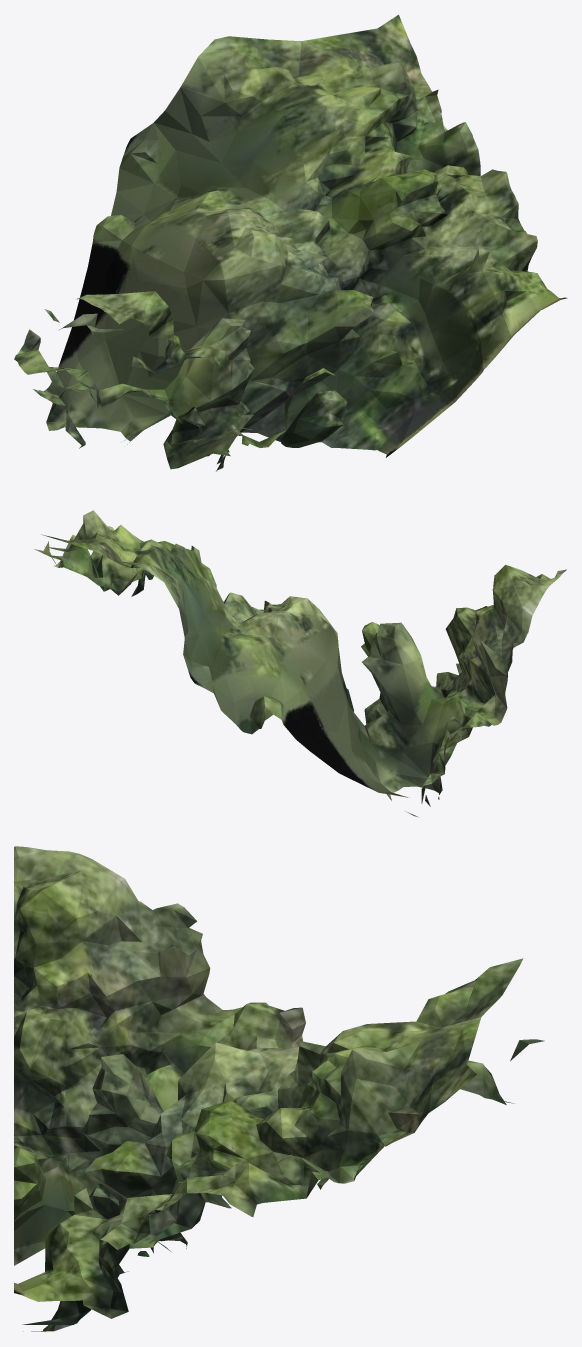
3 renders of one model, top to bottom at view 1: azimuth 30°, elevation 25°; view 2: azimuth 150°, elevation 25°; view 3: azimuth 270°, elevation 25°, orthographic. The views are drawn at different scales.
Bounding box in the file's own units: 104 × 60.21 × 78.97.
Materials: 3 (3 with a texture image).
